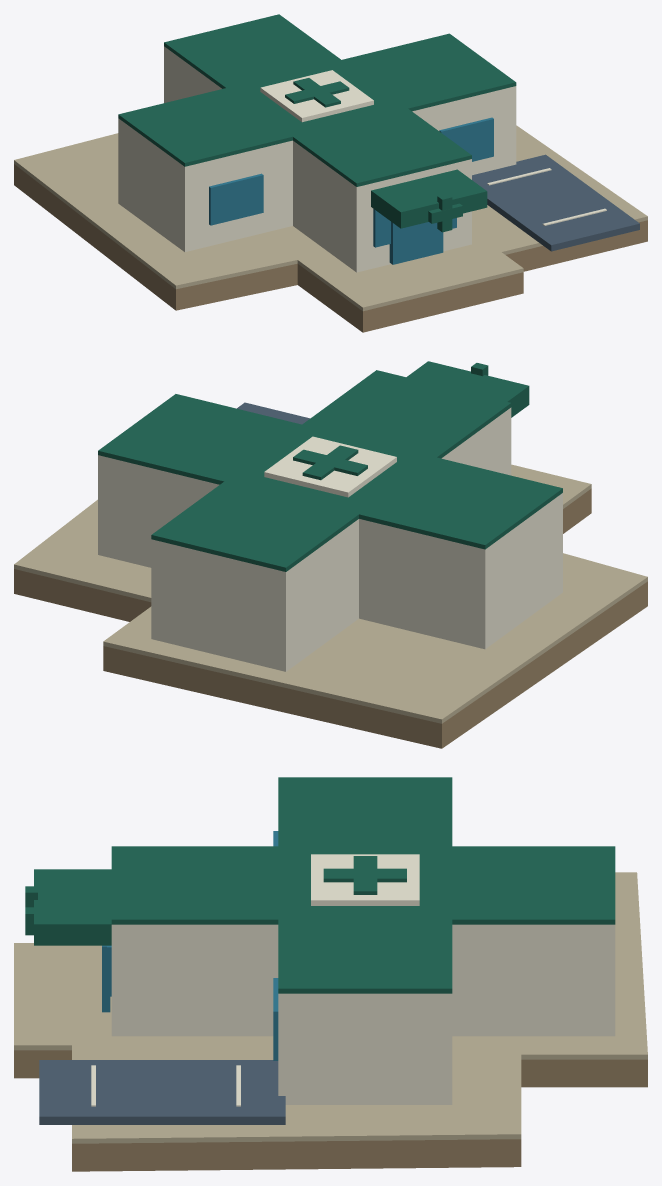
File: medical-center-lv1.glb
3 renders of one model, top to bottom at view 1: azimuth 30°, elevation 25°; view 2: azimuth 150°, elevation 25°; view 3: azimuth 270°, elevation 25°, orthographic. The views are drawn at different scales.
Parts seen in each view (by area): view 1: cross_clinic_jade, cross_clinic_white, foundation_paving, foundation_stoneDark, ambulance_lane_slate, clinic_windows_glass, entry_canopy_jade, roof_mark_white, clinic_entry_glass, roof_mark_jade, medical_mark_jade; view 2: cross_clinic_white, cross_clinic_jade, foundation_paving, foundation_stoneDark, roof_mark_white, entry_canopy_jade, roof_mark_jade, ambulance_lane_slate; view 3: cross_clinic_jade, cross_clinic_white, foundation_paving, foundation_stoneDark, ambulance_lane_slate, entry_canopy_jade, roof_mark_white, roof_mark_jade, clinic_windows_glass.
Boxes of the visible parts, bbox=[...] form: cross_clinic_jade: bbox=[118, 14, 516, 186]; cross_clinic_white: bbox=[118, 46, 516, 272]; foundation_paving: bbox=[14, 125, 647, 311]; foundation_stoneDark: bbox=[14, 164, 647, 332]; ambulance_lane_slate: bbox=[472, 154, 639, 251]; clinic_windows_glass: bbox=[209, 117, 493, 247]; entry_canopy_jade: bbox=[371, 169, 487, 228]; roof_mark_white: bbox=[260, 70, 373, 122]; clinic_entry_glass: bbox=[389, 222, 443, 264]; roof_mark_jade: bbox=[285, 78, 349, 107]; medical_mark_jade: bbox=[428, 194, 462, 232]; cross_clinic_white: bbox=[98, 407, 562, 671]; cross_clinic_jade: bbox=[98, 370, 562, 571]; foundation_paving: bbox=[14, 464, 647, 723]; foundation_stoneDark: bbox=[14, 488, 647, 748]; roof_mark_white: bbox=[264, 436, 396, 497]; entry_canopy_jade: bbox=[406, 361, 529, 417]; roof_mark_jade: bbox=[293, 445, 367, 480]; ambulance_lane_slate: bbox=[237, 402, 309, 424]; cross_clinic_jade: bbox=[111, 777, 615, 993]; cross_clinic_white: bbox=[111, 924, 615, 1104]; foundation_paving: bbox=[14, 872, 647, 1143]; foundation_stoneDark: bbox=[14, 1050, 647, 1171]; ambulance_lane_slate: bbox=[39, 1060, 285, 1124]; entry_canopy_jade: bbox=[34, 869, 111, 945]; roof_mark_white: bbox=[311, 854, 419, 905]; roof_mark_jade: bbox=[323, 856, 406, 894]; clinic_windows_glass: bbox=[107, 831, 278, 1060].
Size of the model in its own units: 1 by 0.2729 by 0.9887.
